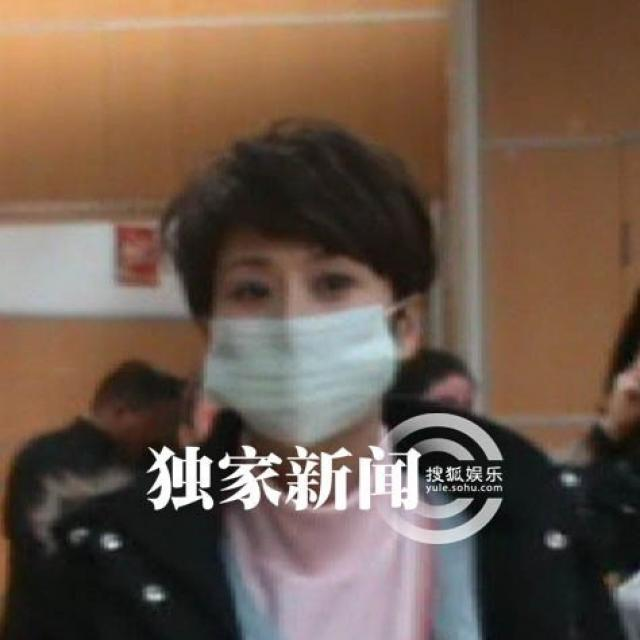mask: (205, 215, 392, 441), (116, 406, 166, 452)
